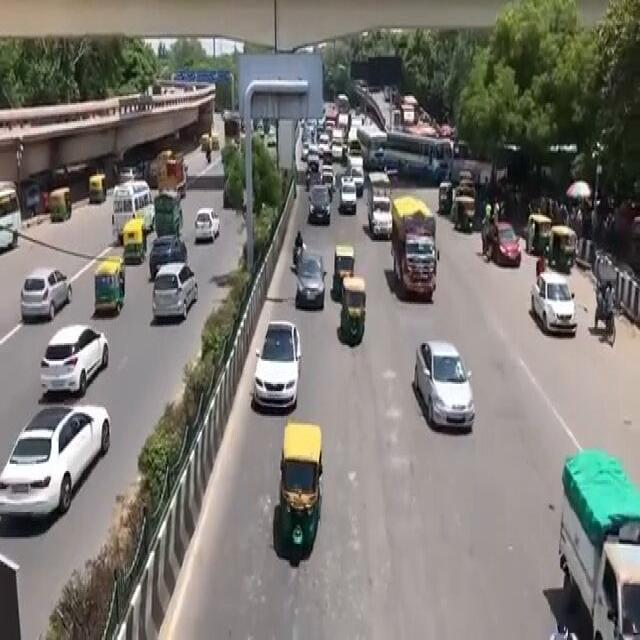three_wheeler: (261, 407, 336, 567), (336, 270, 372, 358), (330, 242, 356, 277)
